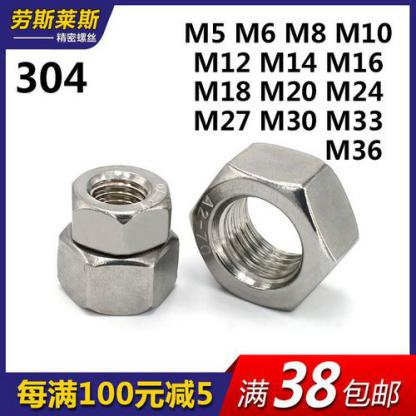FOD: (190, 138, 362, 312), (62, 214, 183, 318), (61, 161, 181, 256)
